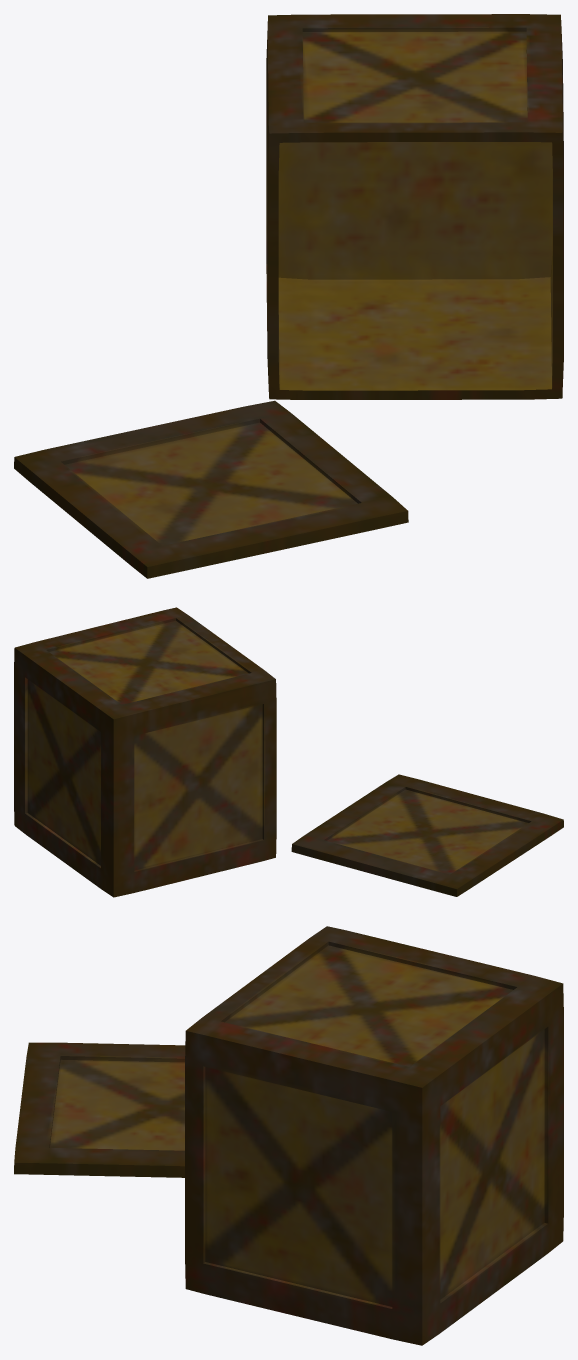
Rendered from Object_Crate_Damaged.fbx.
3 views of the same model, one above another, from view 1: azimuth 30°, elevation 25°; view 2: azimuth 150°, elevation 25°; view 3: azimuth 270°, elevation 25° (orthographic). The views are drawn at different scales.
Parts seen in each view (by area): view 1: Object_Crate_Damaged; view 2: Object_Crate_Damaged; view 3: Object_Crate_Damaged.
Boxes of the visible parts, x1,y1,x2,y2 form: Object_Crate_Damaged: (14, 14, 563, 578); Object_Crate_Damaged: (14, 607, 563, 897); Object_Crate_Damaged: (14, 926, 563, 1345).
Size of the model in its own units: 4.55 by 1.89 by 3.62.
